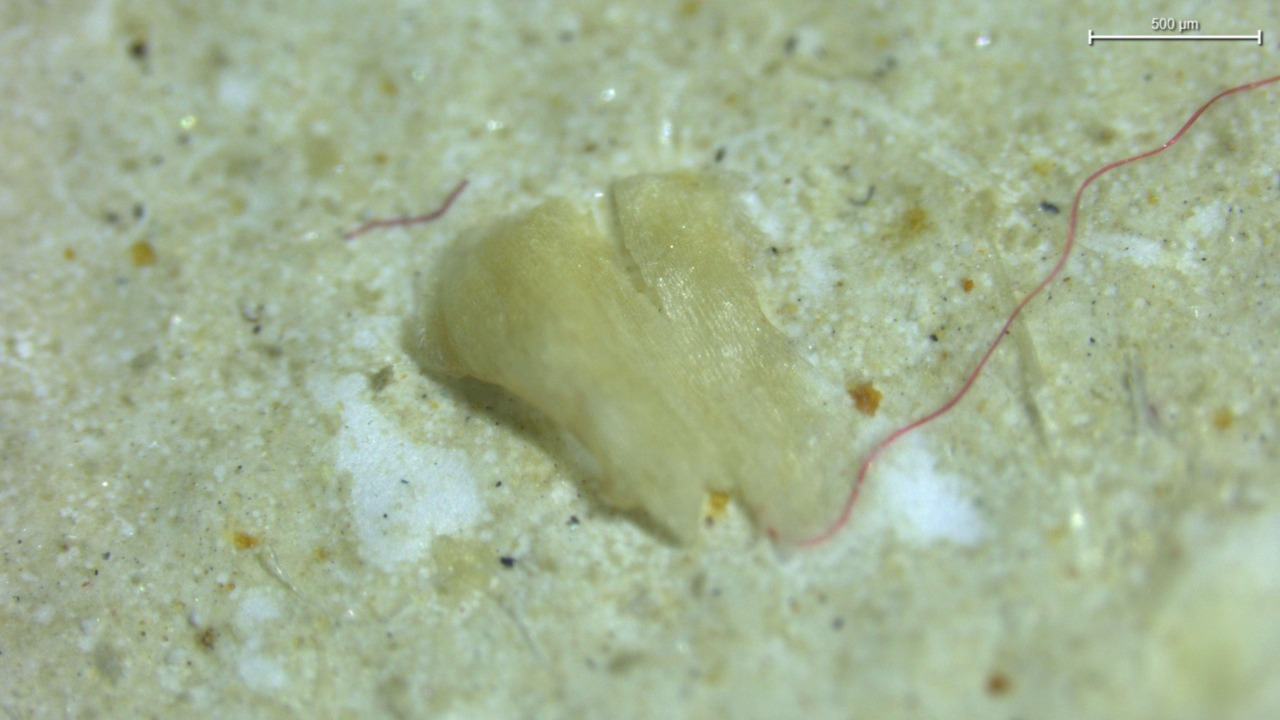microplastic_fragment: (416, 172, 859, 544)
